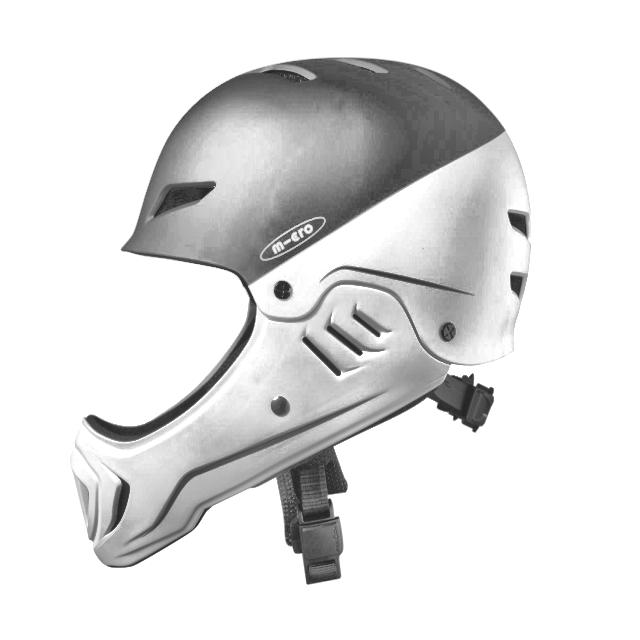Helmet: (58, 53, 562, 609)
